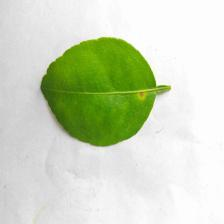canker: (112, 73, 160, 110)
